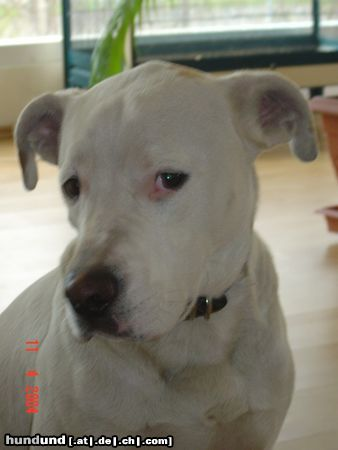dogo_argentino: (0, 58, 319, 450)
